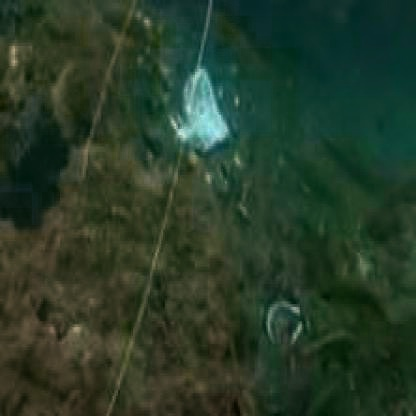misc: (155, 51, 283, 200)
